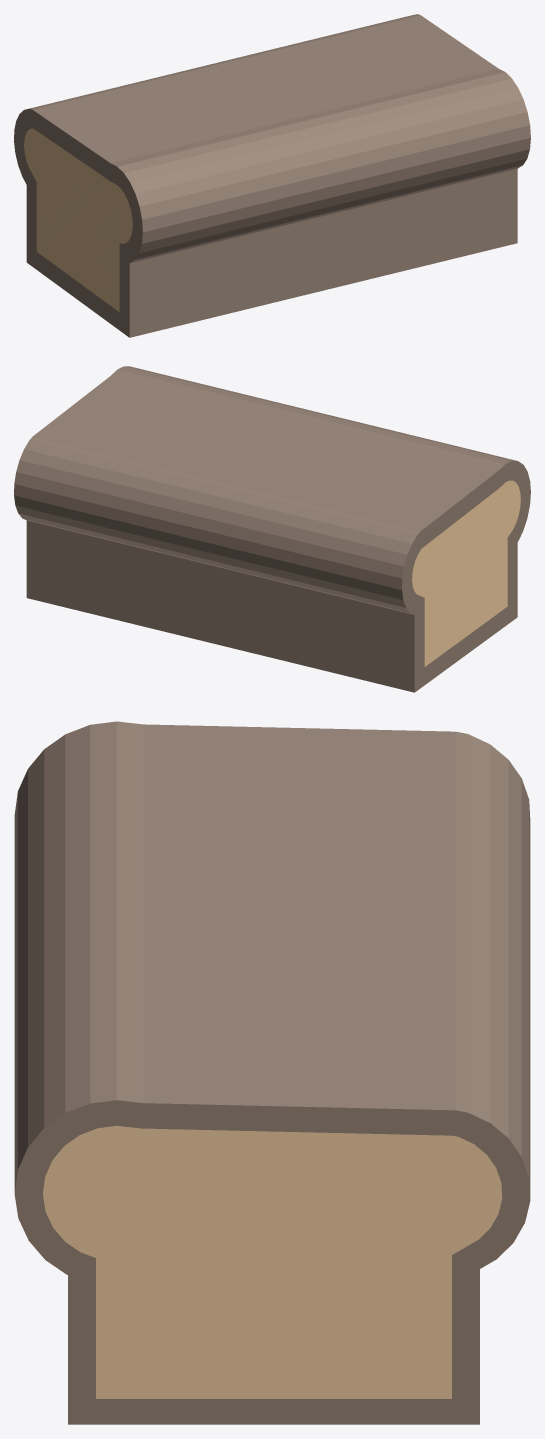
The model's file is Bread.glb.
3 views of the same model, one above another, from view 1: azimuth 30°, elevation 25°; view 2: azimuth 150°, elevation 25°; view 3: azimuth 270°, elevation 25° (orthographic). The views are drawn at different scales.
Parts seen in each view (by area): view 1: Group1; view 2: Group1; view 3: Group1.
Boxes of the visible parts, x1=… form: Group1: x1=14, y1=14, x2=530, y2=337; Group1: x1=14, y1=366, x2=530, y2=692; Group1: x1=14, y1=721, x2=530, y2=1424.
Bounding box in the file's own units: 0.1105 × 0.0441 × 0.0636.
